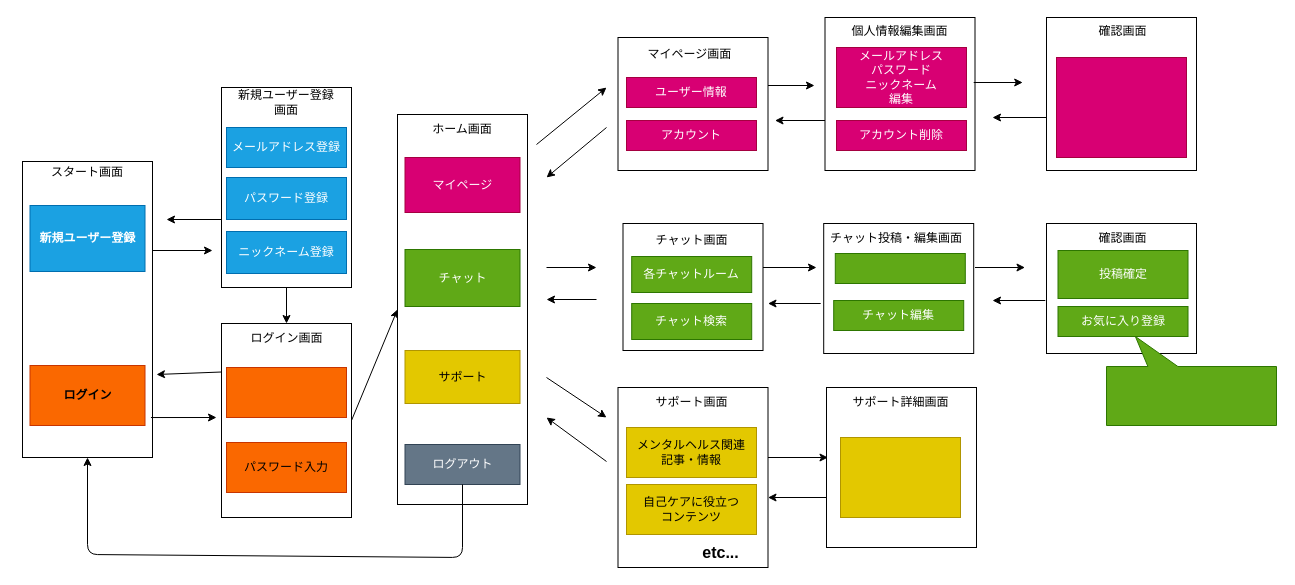
This 1295x585 diagram has some shape labels left out. Each missing label, with the centre of its shape:
"チャット投稿" belongs at pixel 899 268.
"メールアドレス入力" belongs at pixel 286 392.
"各ユーザーの投稿に リアクション機能搭載" belongs at pixel 1191 381.
"情報確認・確定" belongs at pixel 1121 107.
"閲覧" belongs at pixel 900 477.
